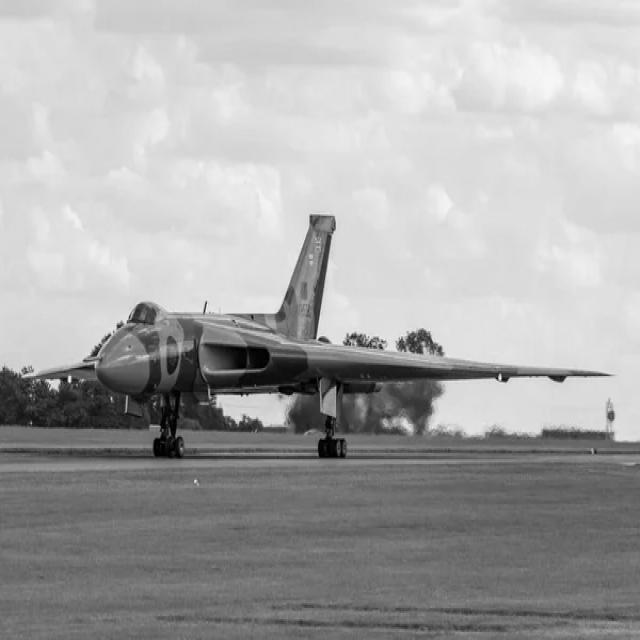Aircraft: (25, 210, 620, 458)
